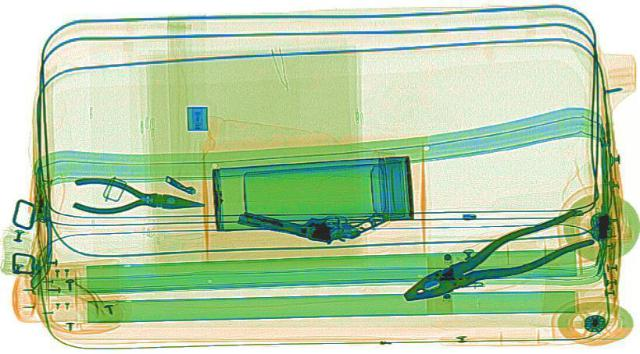Gun: (232, 190, 390, 250)
Pliers: (376, 206, 616, 309), (65, 174, 208, 218)
